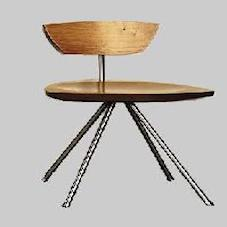chair: (15, 3, 220, 214)
